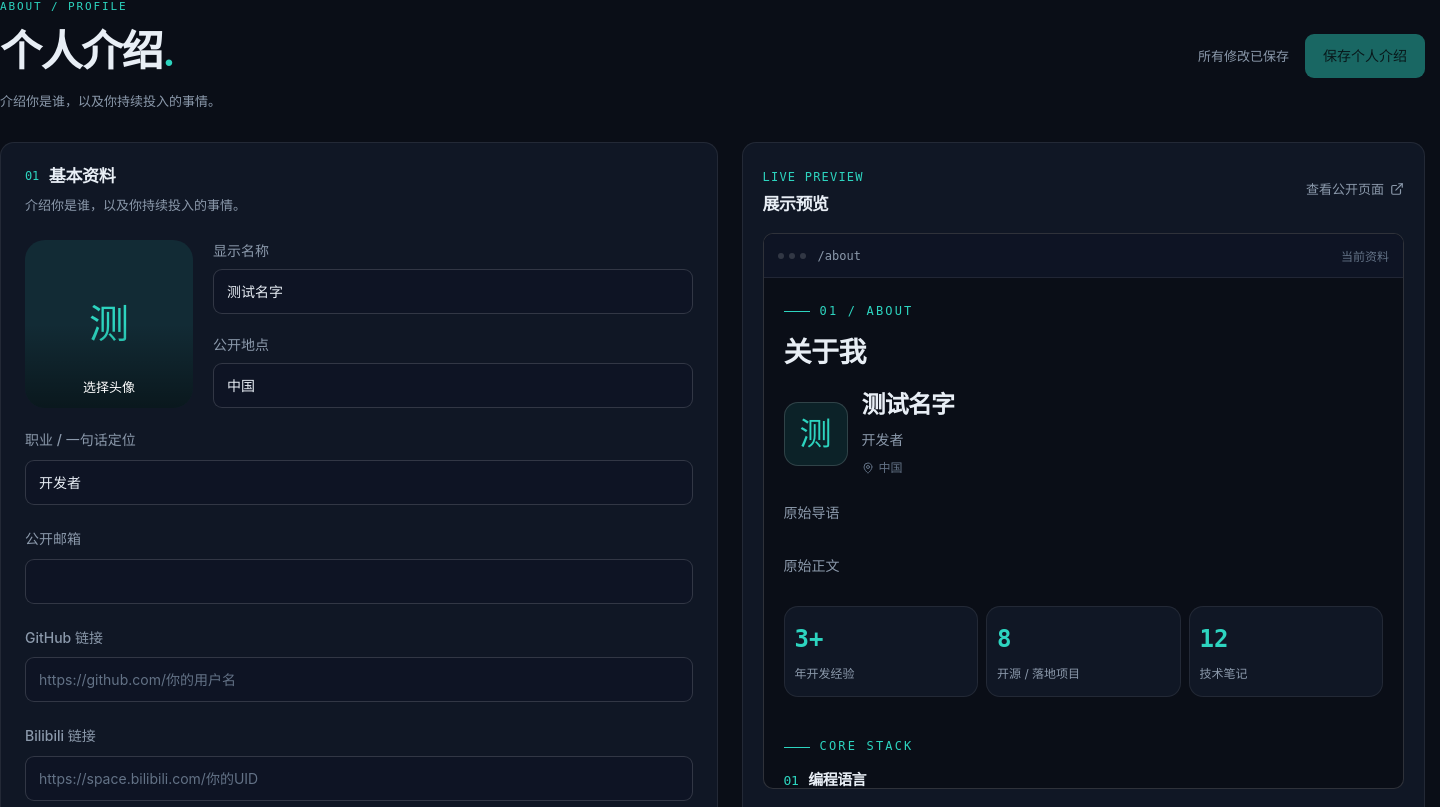
Test case: 个人介绍编辑与预览 › 只有顶部保存按钮，修改立即预览，保存保留经历及版本
Expected: the number of buttons "保存个人介绍" is 1, [1305, 34, 1425, 78]
Expected: the button "保存个人介绍" is disabled, [1305, 34, 1425, 78]
Replace the text in the field labelled "显示名称" with "修改后的名字". click: x=453, y=291
box: [213, 269, 693, 314]
(page scrolled)
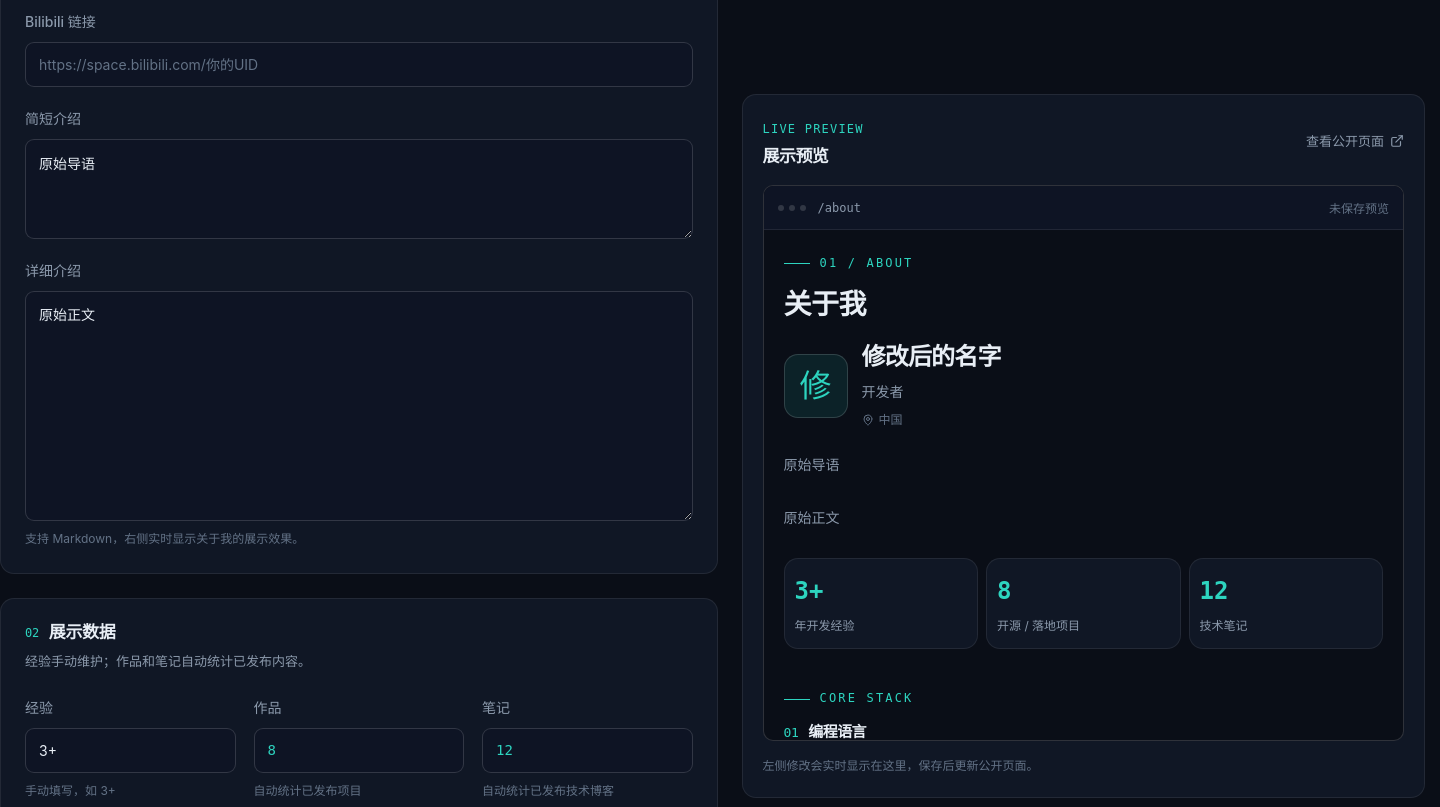
Replace the text in the text box labelled "详细介绍" with "**新的详细介绍**". click: x=359, y=406
box: [25, 291, 693, 521]
(page scrolled)
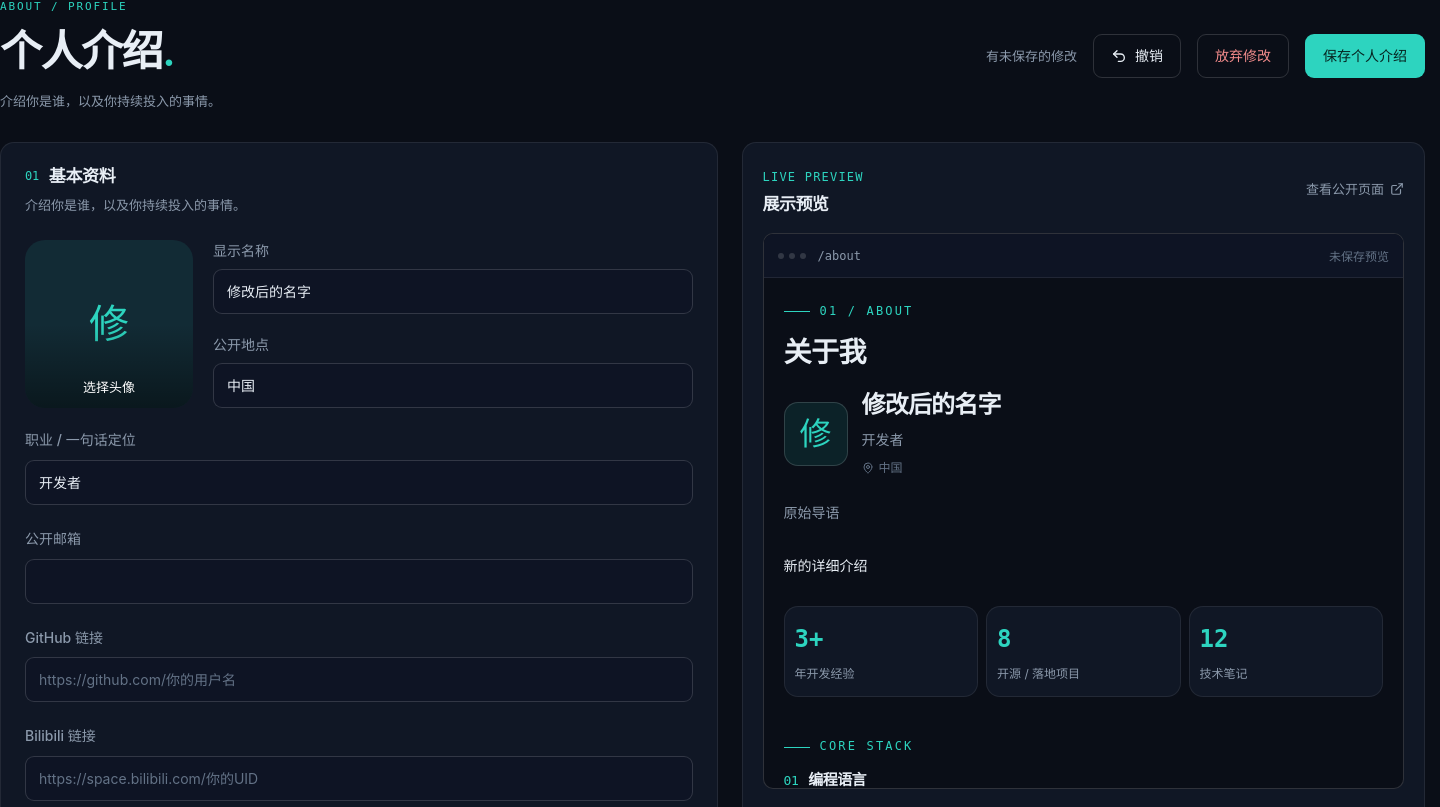
Now the heading "修改后的名字" is shown, box [862, 390, 1001, 420]
Now the text "未保存预览" is shown, box [1329, 247, 1389, 264]
Click the button "保存个人介绍". click: x=1365, y=56
box: [1305, 34, 1425, 78]
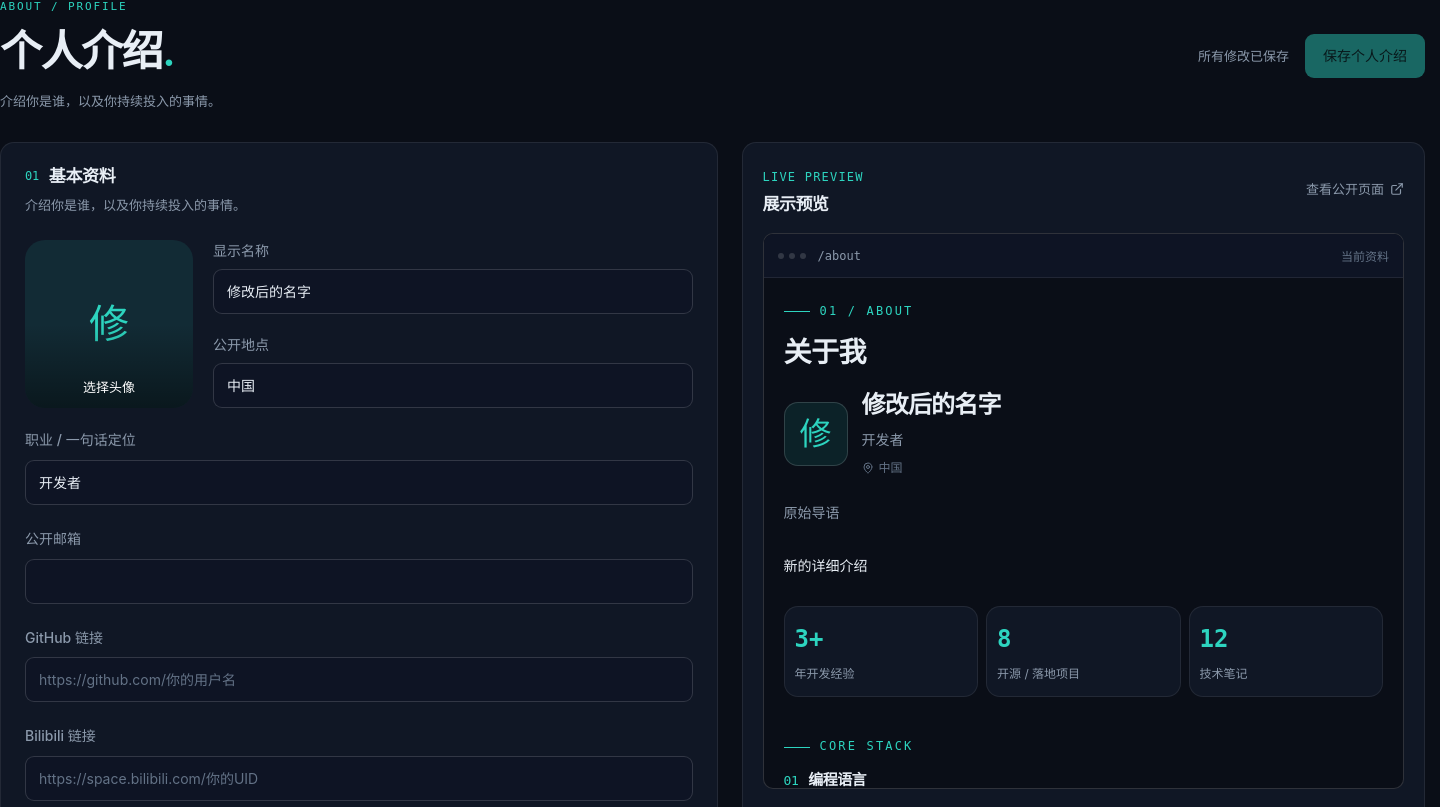
Now the text "所有修改已保存" is shown, box [1198, 45, 1289, 67]
Now the text "当前资料" is shown, box [1341, 247, 1389, 264]
